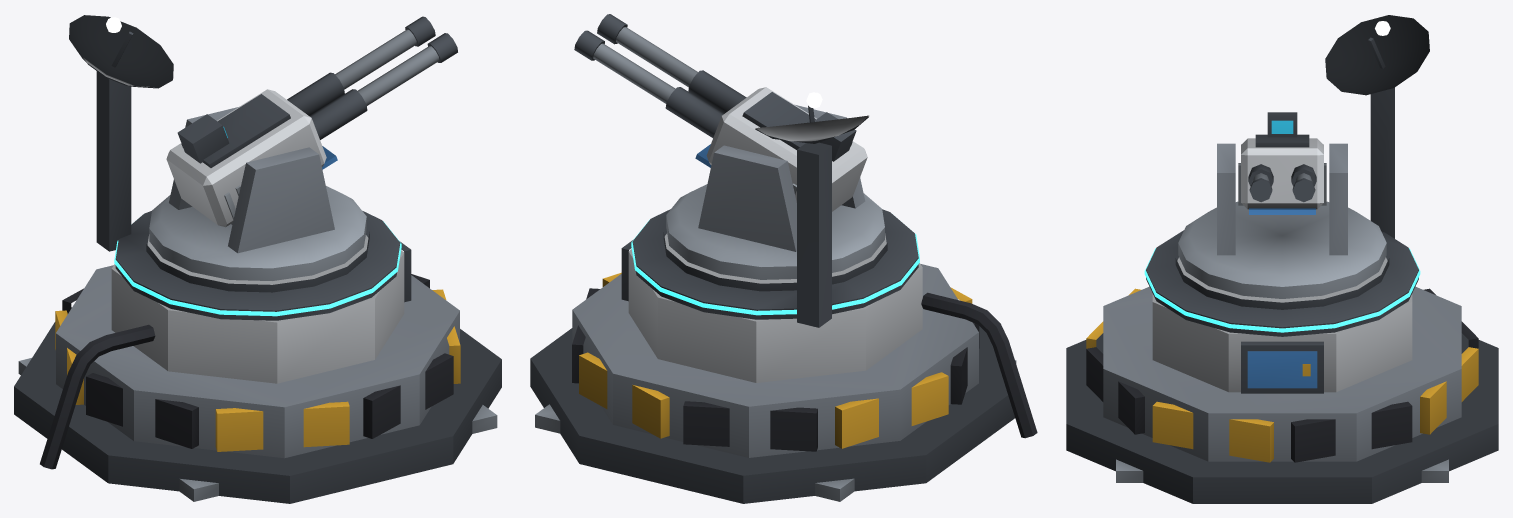
Rendered from meteor_turret.glb.
The picture shows the model from 3 angles, left to right: view 1: azimuth 30°, elevation 25°; view 2: azimuth 150°, elevation 25°; view 3: azimuth 270°, elevation 25°; orthographic projection. The views are drawn at different scales.
Parts seen in each view (by area): view 1: Base, Turret, Lights; view 2: Base, Turret, Lights; view 3: Base, Turret, Lights.
Boxes of the visible parts, x1,y1,x2,y2 form: Base: (14,15,501,503); Turret: (149,16,457,280); Lights: (106,17,401,316); Base: (530,105,1037,503); Turret: (574,14,884,279); Lights: (631,92,919,315); Base: (1066,15,1498,503); Turret: (1178,112,1386,298); Lights: (1144,21,1420,332).
Size of the model in its own units: 3.57 by 2.88 by 3.23.
